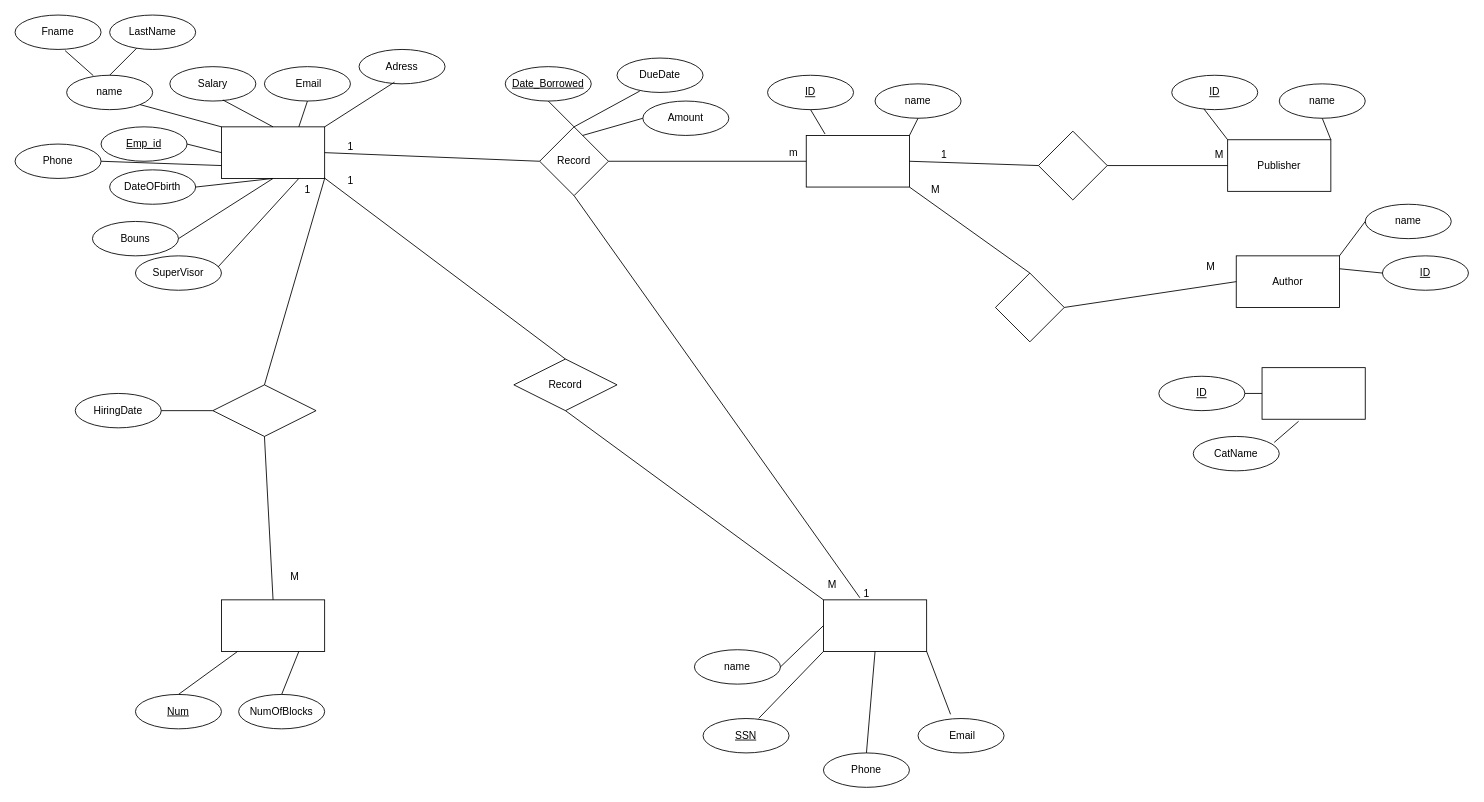
The diagram is 1484 pixels wide and 802 high, and some of its shapes have lost their labels. Here are the shapes that lost their labels. From the top down, the centre of each, then its label:
(x=273, y=152): Employee
(x=857, y=161): Book
(x=1072, y=165): Has
(x=1029, y=307): Own
(x=264, y=410): Manage
(x=1313, y=393): Catagory
(x=273, y=625): Floor
(x=875, y=625): User
